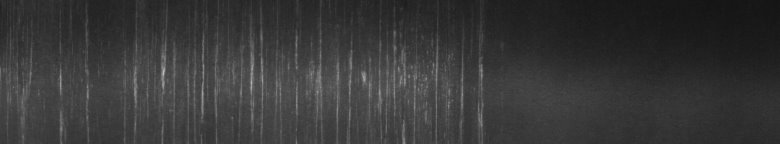ka: (30, 30, 484, 136)
